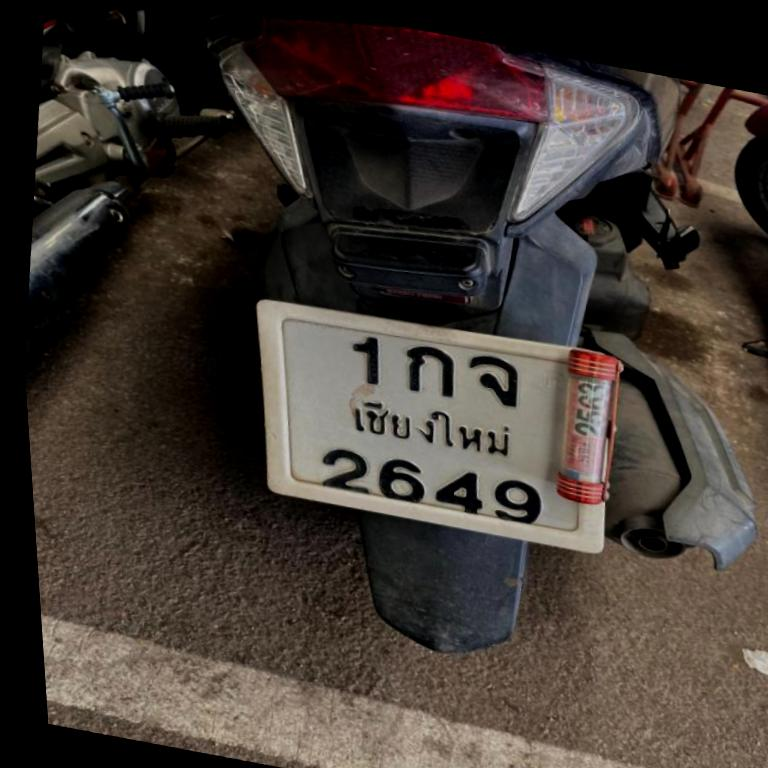license plate: (258, 300, 602, 552)
